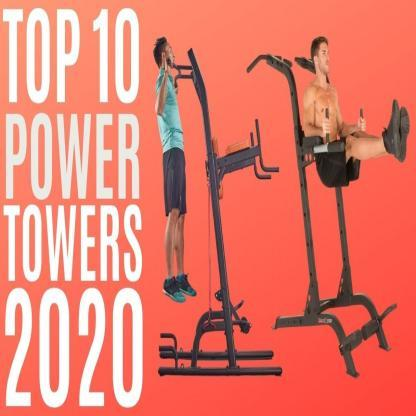chinning dipping: (153, 37, 284, 380), (273, 53, 410, 377)
